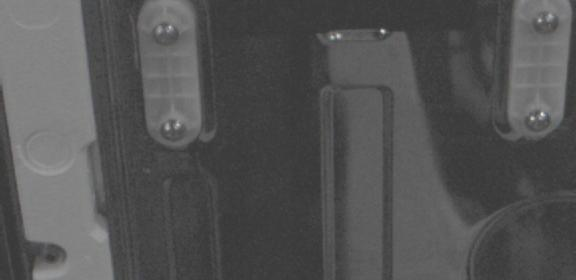vida-ok: (531, 9, 563, 38), (150, 21, 180, 49), (158, 119, 186, 144), (524, 109, 552, 133)
